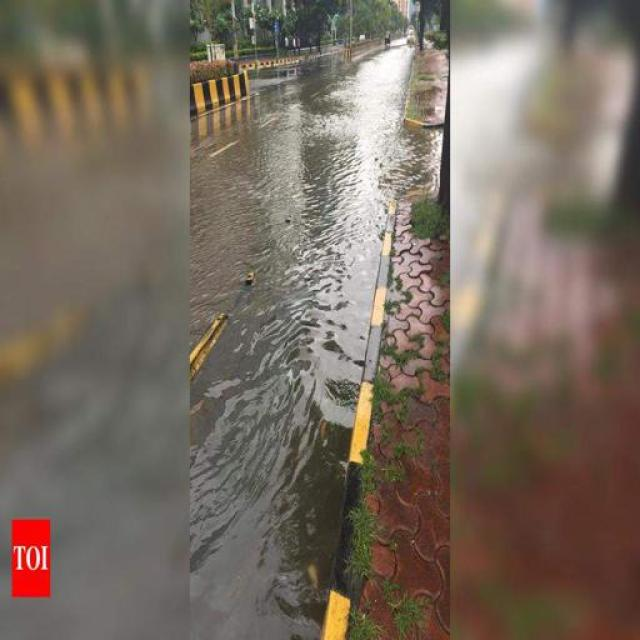puddle: (188, 115, 322, 625), (311, 51, 370, 384)
